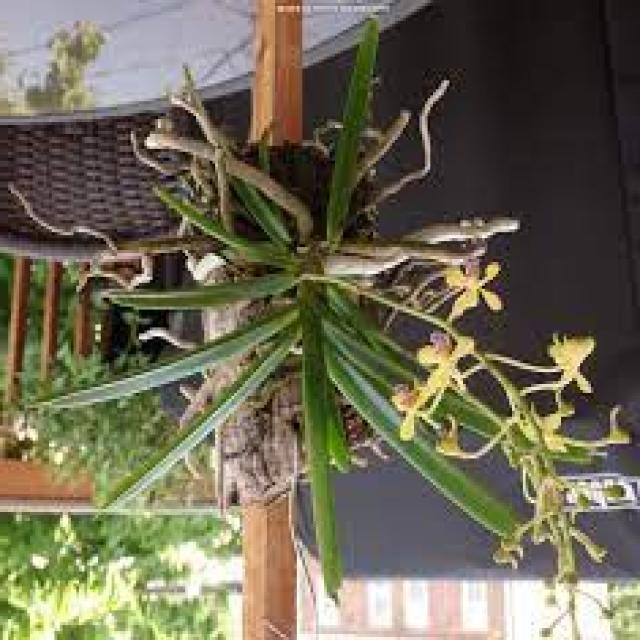flower: (417, 333, 474, 408), (447, 265, 501, 321), (550, 339, 596, 393), (537, 405, 572, 452), (395, 387, 425, 441)
leaf: (106, 339, 291, 512), (330, 363, 512, 530), (35, 313, 297, 408), (44, 313, 291, 408), (327, 316, 498, 440), (302, 292, 340, 598), (330, 24, 379, 244), (161, 193, 289, 268), (114, 271, 300, 310), (234, 182, 294, 253)
plant: (9, 13, 609, 616)
root: (379, 83, 449, 202), (406, 220, 520, 244), (327, 256, 406, 277), (188, 253, 226, 283)
